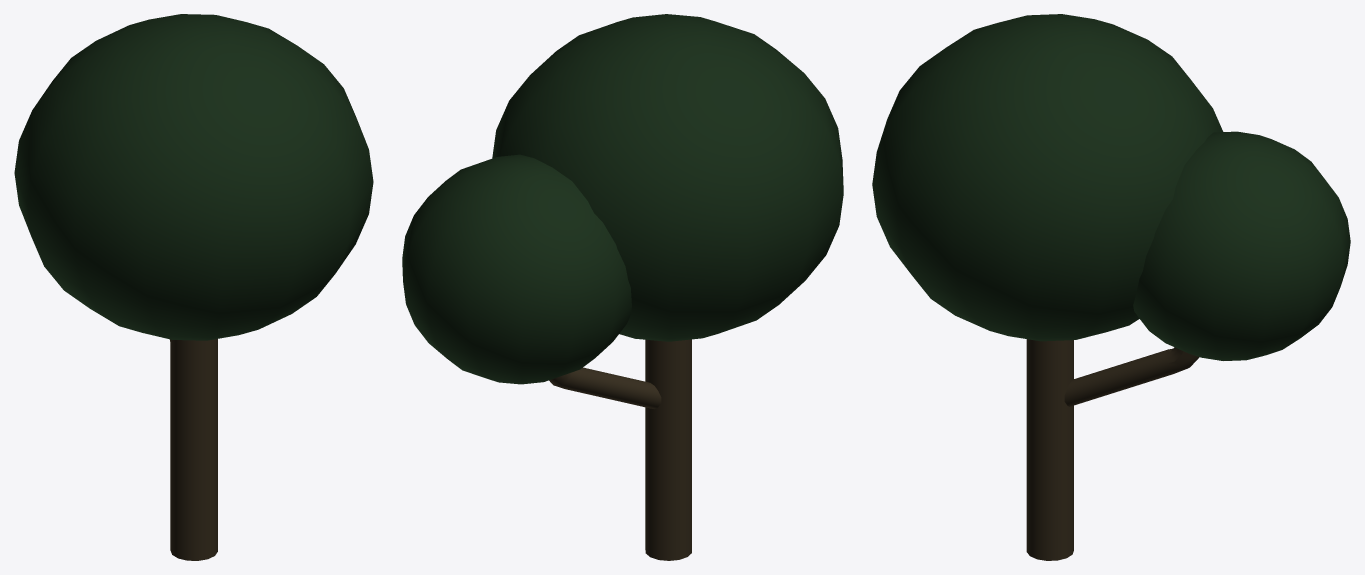
File: tree04.fbx
The picture shows the model from 3 angles, left to right: view 1: azimuth 30°, elevation 25°; view 2: azimuth 150°, elevation 25°; view 3: azimuth 270°, elevation 25°; orthographic projection.
Parts seen in each view (by area): view 1: boem4; view 2: boem4; view 3: boem4.
Boxes of the visible parts, <box> form: boem4: <box>14,14,373,560</box>; boem4: <box>402,14,843,560</box>; boem4: <box>872,14,1350,560</box>.
Size of the model in its own units: 4.01 by 6.28 by 5.25.
